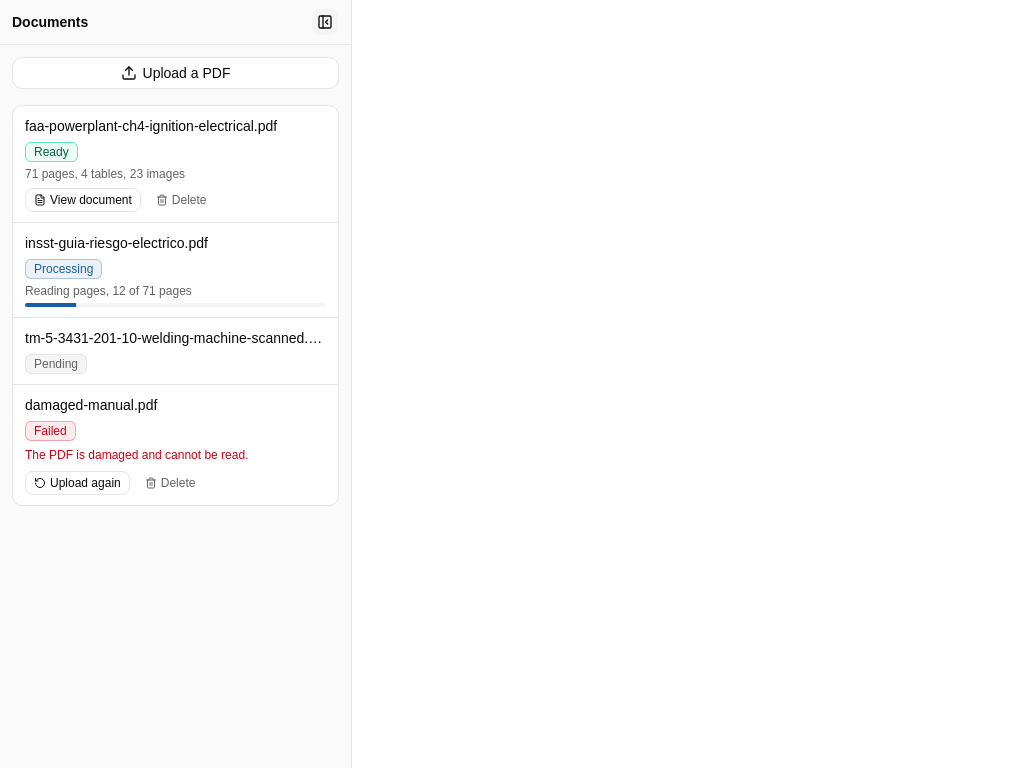
Test: a deleted document leaves the list
Expected: the number of list items is 4, [13, 106, 338, 223]; [13, 223, 338, 318]; [13, 318, 338, 385]; [25, 397, 248, 495]
Click the button "Delete" below "Ready": {"x": 181, "y": 200} [147, 188, 216, 212]
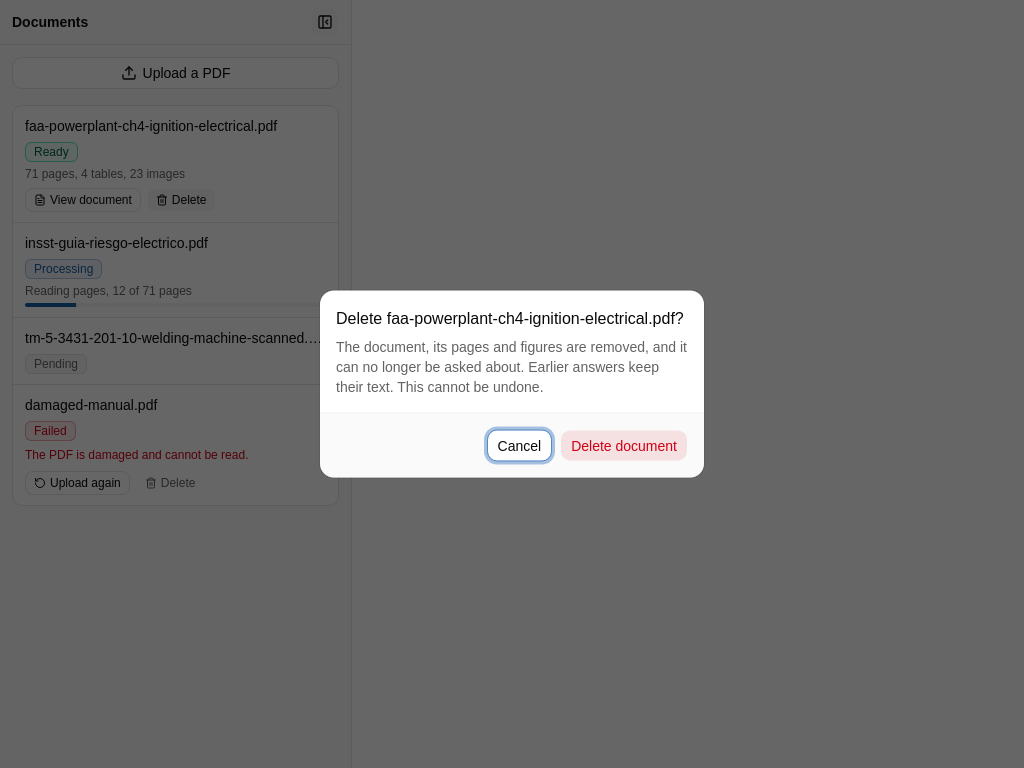
Click the button "Delete document": {"x": 624, "y": 446} [560, 430, 688, 462]
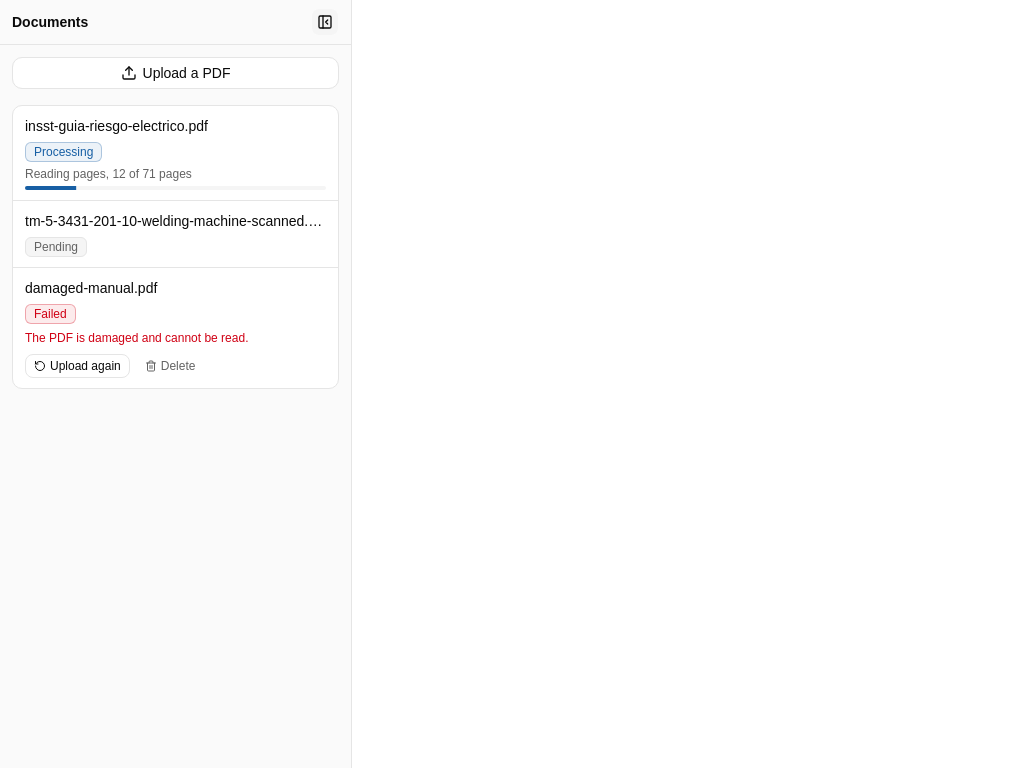
Expected: the number of list items is 3, [13, 106, 338, 201]; [13, 201, 338, 268]; [25, 280, 248, 378]
Expected: the text "faa-powerplant" is gone
